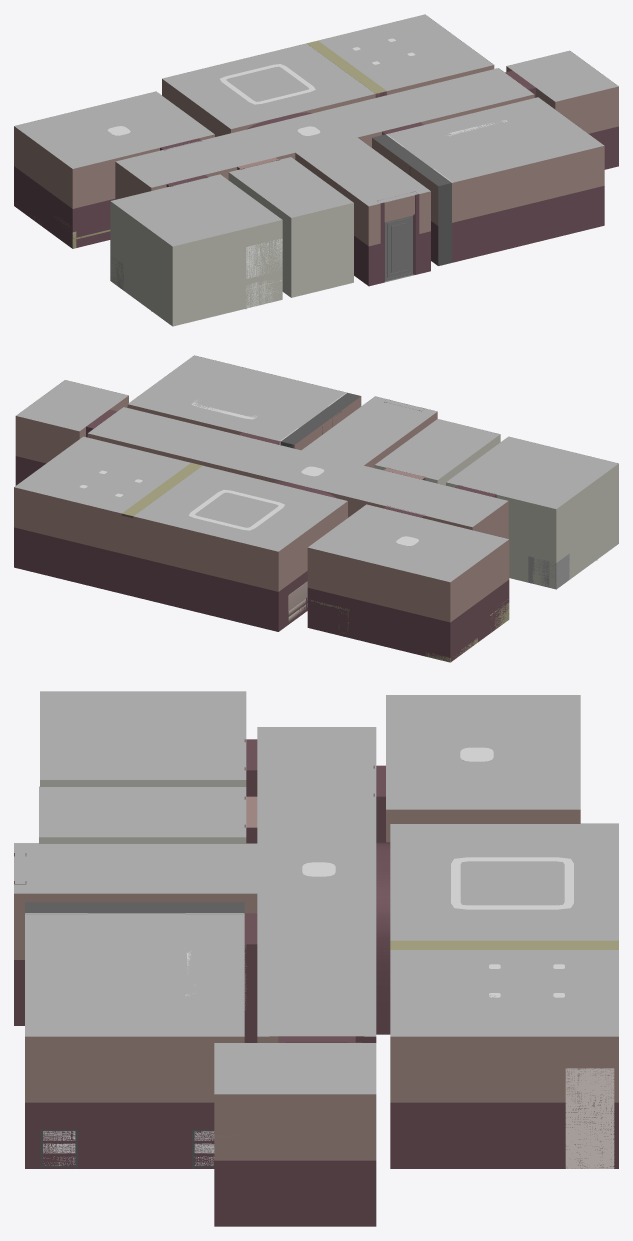
File: apartment.fbx
3 renders of one model, top to bottom at view 1: azimuth 30°, elevation 25°; view 2: azimuth 150°, elevation 25°; view 3: azimuth 270°, elevation 25°, orthographic. The views are drawn at different scales.
Visible parts, largest first — view 1: Plane.001, Plane.004, Plane.009, Plane.002, Plane.005, Plane.006, Plane.008, Plane.007, Plane.003, Cube.053, Cube.023, Cube.060 (+3 smaller); view 2: Plane.001, Plane.004, Plane.009, Plane.002, Plane.005, Plane.006, Plane.008, Plane.007, Plane.003, Cube.023, Cube.004, Cube.062 (+1 smaller); view 3: Plane.001, Plane.004, Plane.009, Plane.002, Plane.005, Plane.006, Plane.008, Plane.007, Plane.003, Cube.013, Cube.023, Cube.062 (+1 smaller).
Boxes of the visible parts, box(x1,y1,x2,y2) form: Plane.001: box(14, 14, 618, 326); Plane.004: box(162, 14, 493, 128); Plane.009: box(115, 68, 533, 187); Plane.002: box(386, 97, 604, 182); Plane.005: box(14, 91, 214, 168); Plane.006: box(111, 174, 282, 246); Plane.008: box(296, 137, 430, 206); Plane.007: box(229, 157, 353, 217); Plane.003: box(507, 50, 618, 101); Cube.053: box(284, 243, 353, 297); Cube.023: box(372, 134, 451, 265); Cube.060: box(385, 215, 412, 281); Plane.001: box(14, 357, 618, 661); Plane.004: box(14, 436, 347, 551); Plane.009: box(88, 407, 507, 527); Plane.002: box(128, 355, 345, 441); Plane.005: box(308, 504, 508, 582); Plane.006: box(446, 436, 618, 509); Plane.008: box(302, 396, 437, 465); Plane.007: box(375, 419, 499, 479); Plane.003: box(16, 380, 128, 431); Cube.023: box(281, 392, 360, 447); Cube.004: box(528, 553, 569, 589); Cube.062: box(188, 489, 284, 530); Plane.001: box(14, 739, 618, 1226); Plane.004: box(390, 824, 618, 1036); Plane.009: box(257, 727, 376, 1036); Plane.002: box(25, 913, 244, 1036); Plane.005: box(386, 695, 580, 809); Plane.006: box(40, 691, 246, 779); Plane.008: box(14, 843, 257, 893); Plane.007: box(39, 787, 246, 837); Plane.003: box(214, 1043, 376, 1094); Cube.013: box(565, 1068, 614, 1168); Cube.023: box(25, 902, 244, 913); Cube.062: box(451, 857, 573, 909).
Bounding box in the file's own units: 2068 × 321 × 1312.
